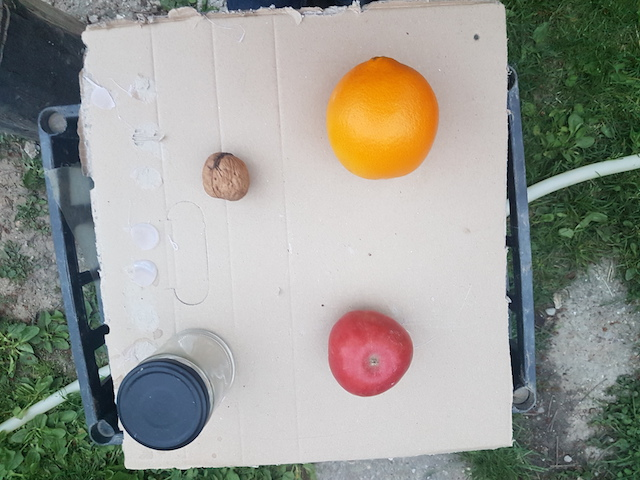apple: (324, 309, 412, 399)
nut: (200, 153, 249, 204)
orange: (326, 56, 445, 186)
recipient: (118, 355, 208, 452)
